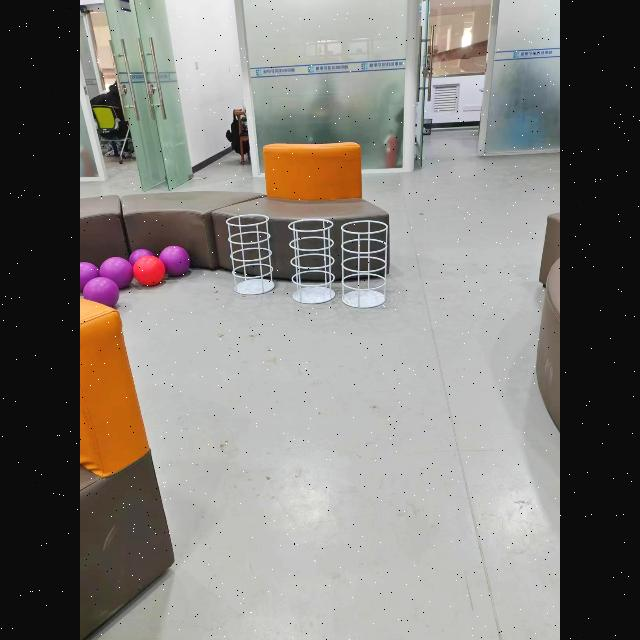P: (80, 262, 119, 308), (99, 258, 133, 289), (159, 246, 191, 276), (129, 249, 153, 265)
R: (133, 255, 166, 285)
S: (342, 220, 389, 308), (288, 218, 335, 304), (226, 214, 275, 294)
